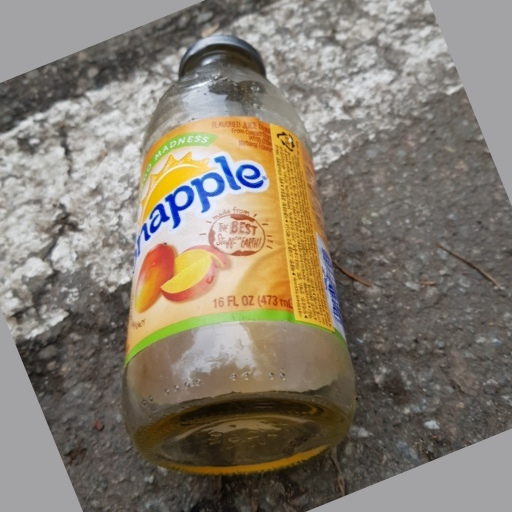Glass_4: (121, 29, 358, 479)
